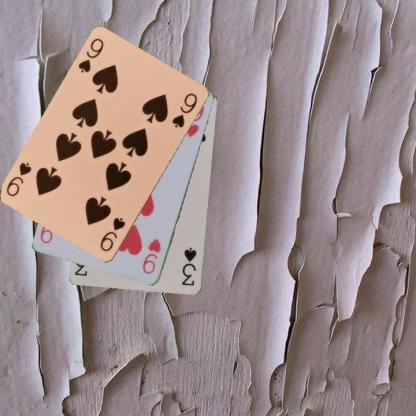3s: (179, 245, 198, 288)
9h: (140, 235, 162, 276)
9s: (97, 215, 127, 253), (75, 36, 105, 74)
